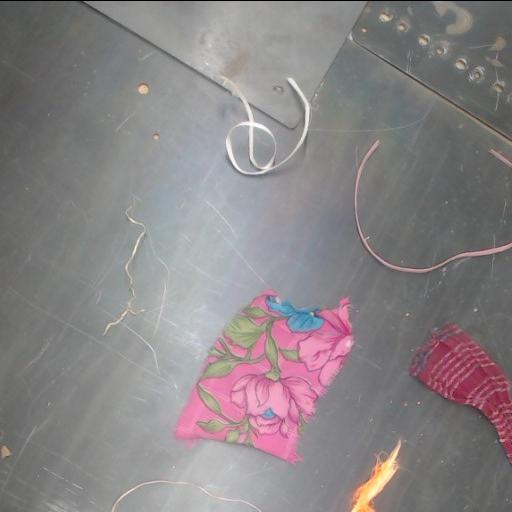cloth: (176, 290, 353, 462), (410, 324, 511, 463), (104, 205, 147, 334)
cotton: (0, 1, 511, 512)
thread: (354, 139, 511, 271), (221, 77, 310, 174), (111, 479, 263, 512)
